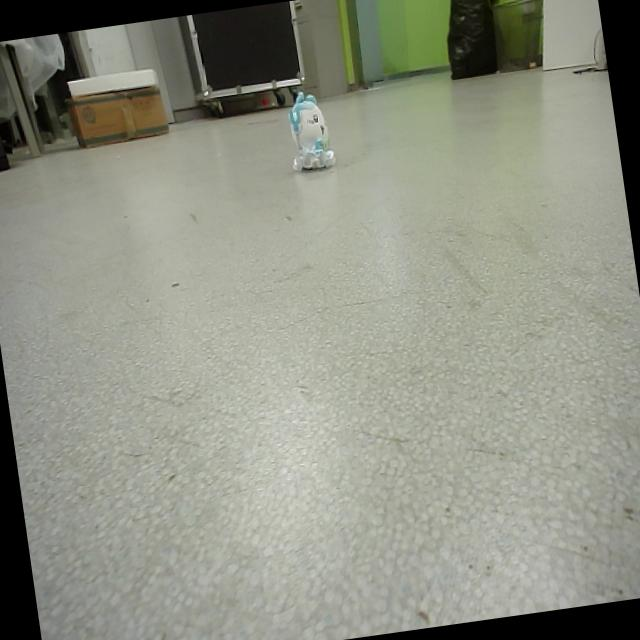xiaoba: (284, 86, 342, 182)
